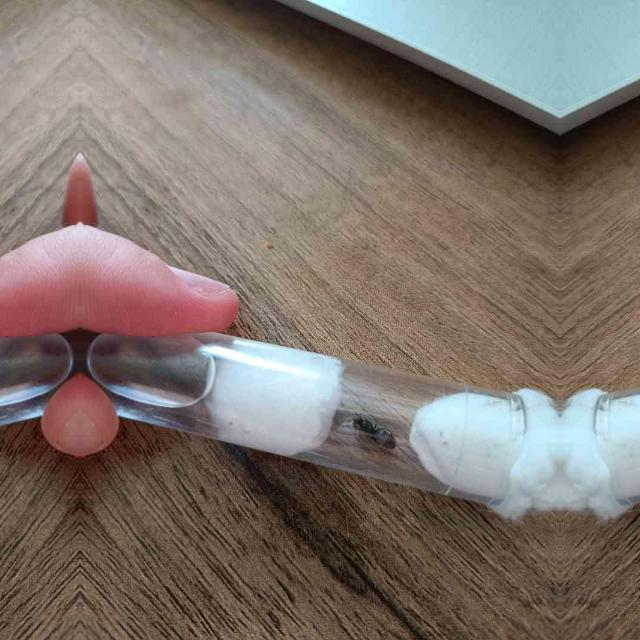Lasius: (345, 396, 399, 456)
